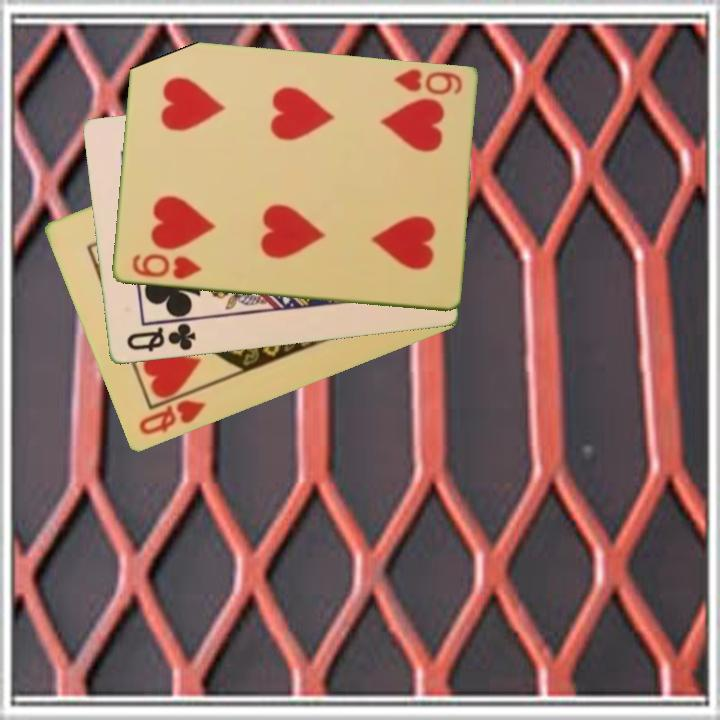6h: (389, 65, 465, 98), (128, 251, 204, 283)
Qc: (122, 317, 199, 355)
Qh: (135, 396, 209, 438)
